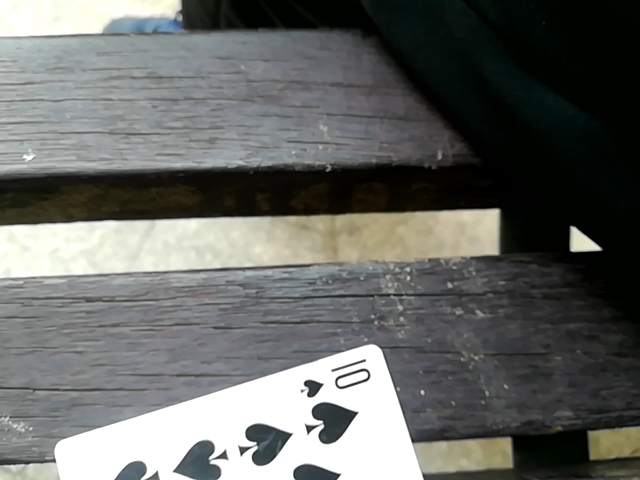ht 10: (40, 342, 457, 477)
